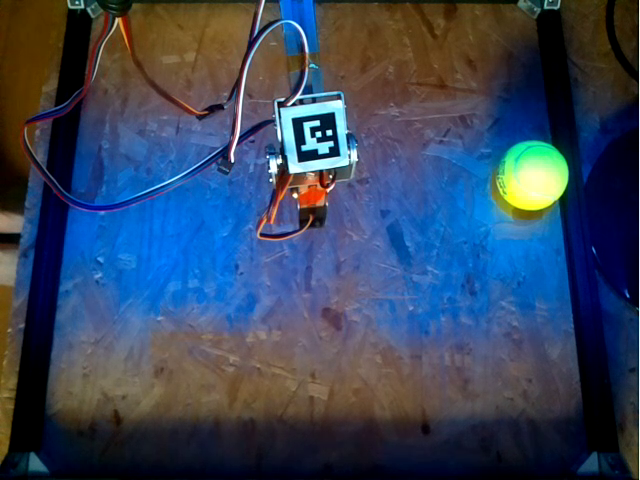tennis_ball: (495, 139, 569, 212)
